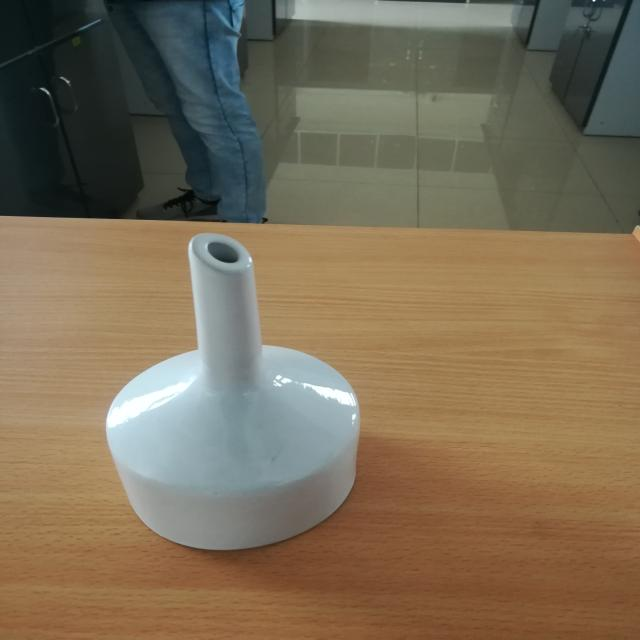Buchner_Funnel: (78, 205, 426, 571)
